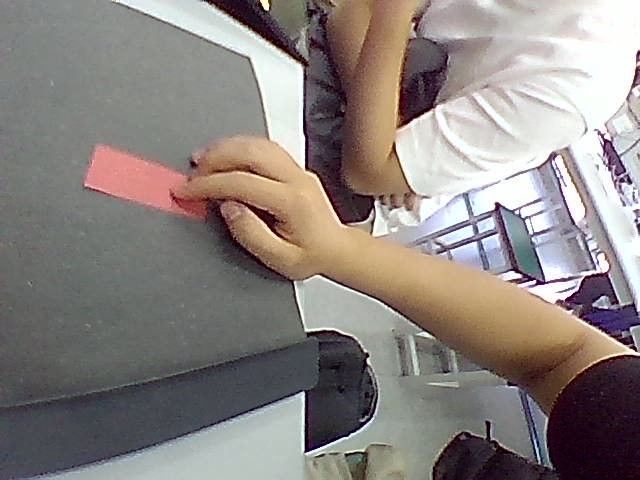card: (84, 144, 205, 218)
